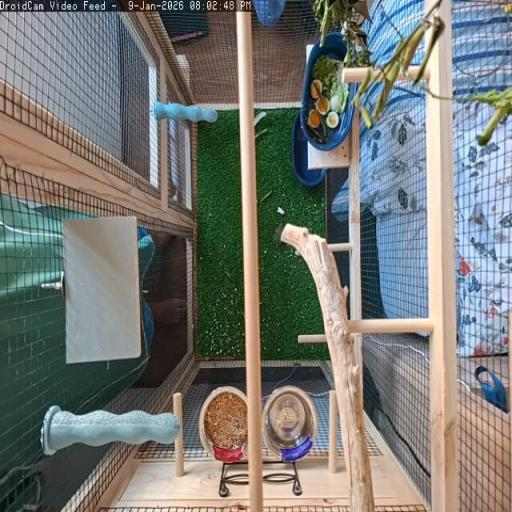bebedero: (262, 387, 316, 461)
comedero: (199, 386, 246, 463)
